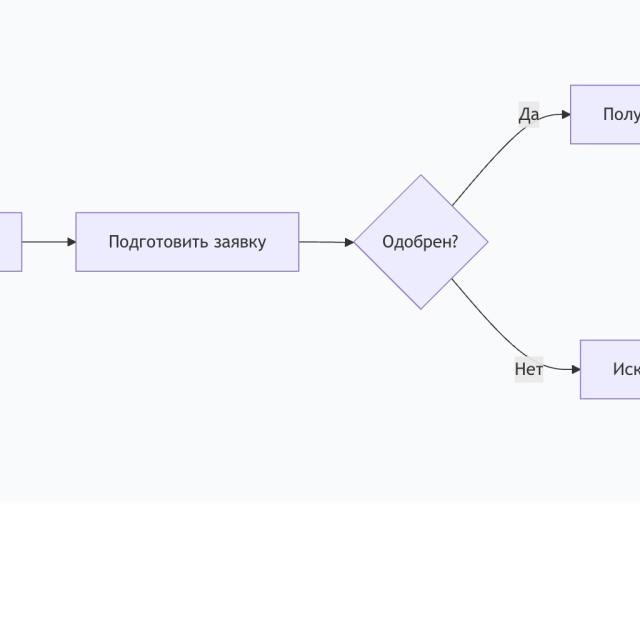arrow: (450, 277, 580, 375), (450, 110, 570, 206), (300, 235, 355, 250), (20, 235, 76, 248)
diamond: (353, 174, 488, 310)
rectangle: (76, 212, 299, 271)
text_region: (511, 350, 547, 383), (515, 97, 543, 128)
